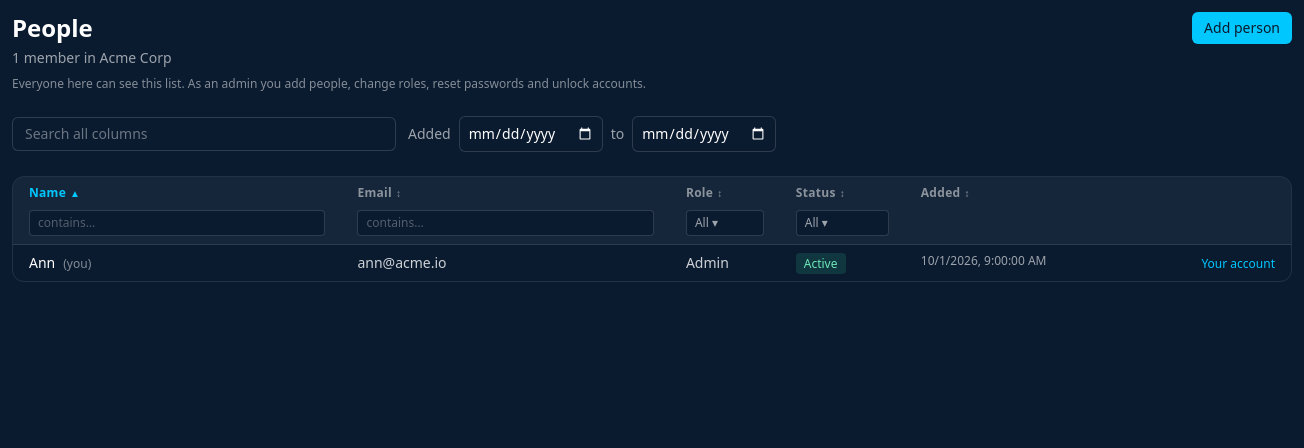
Test: People page › says when the person already had an account
Click the button "Add person".
click(1242, 28)  # box [1192,12,1292,44]
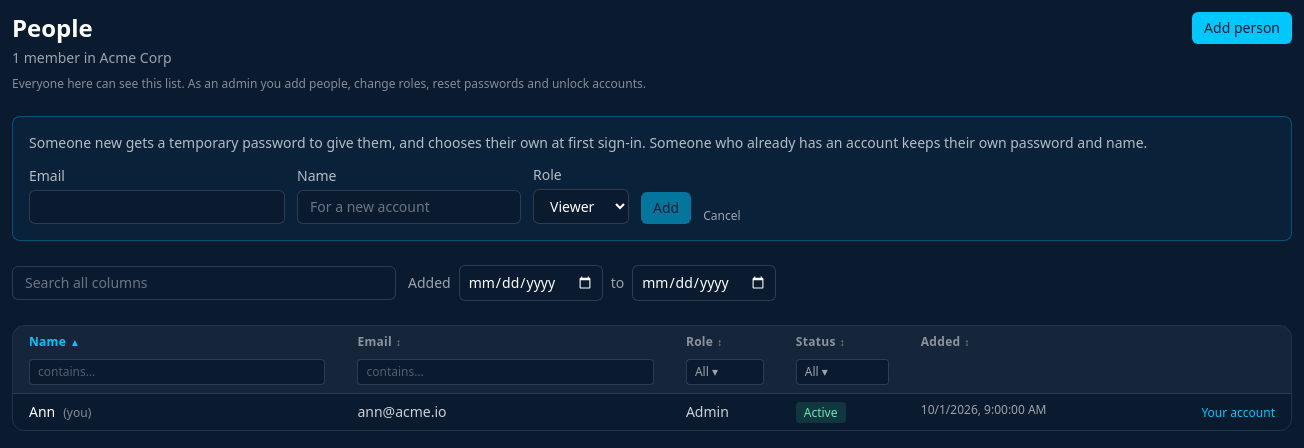
Type "bob@acme.io" into the field labelled "Email".
click(157, 207); type("bob@acme.io")  # box [29,190,285,224]
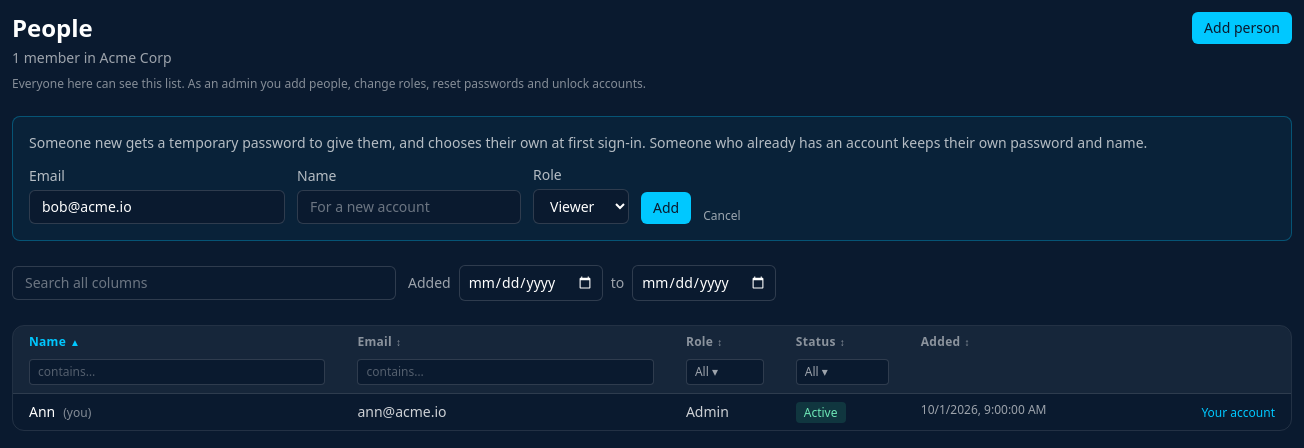
Click the button "Add".
click(666, 208)  # box [641,192,691,224]
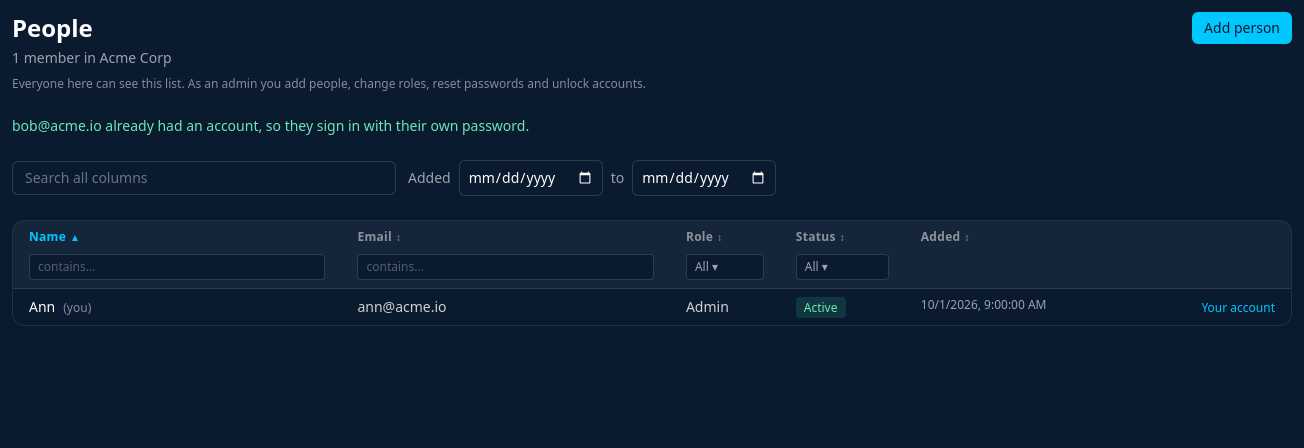
Result: the message shows "bob@acme.io already had an account" at [12,116,529,135]
Result: the text "temporary password" is gone
